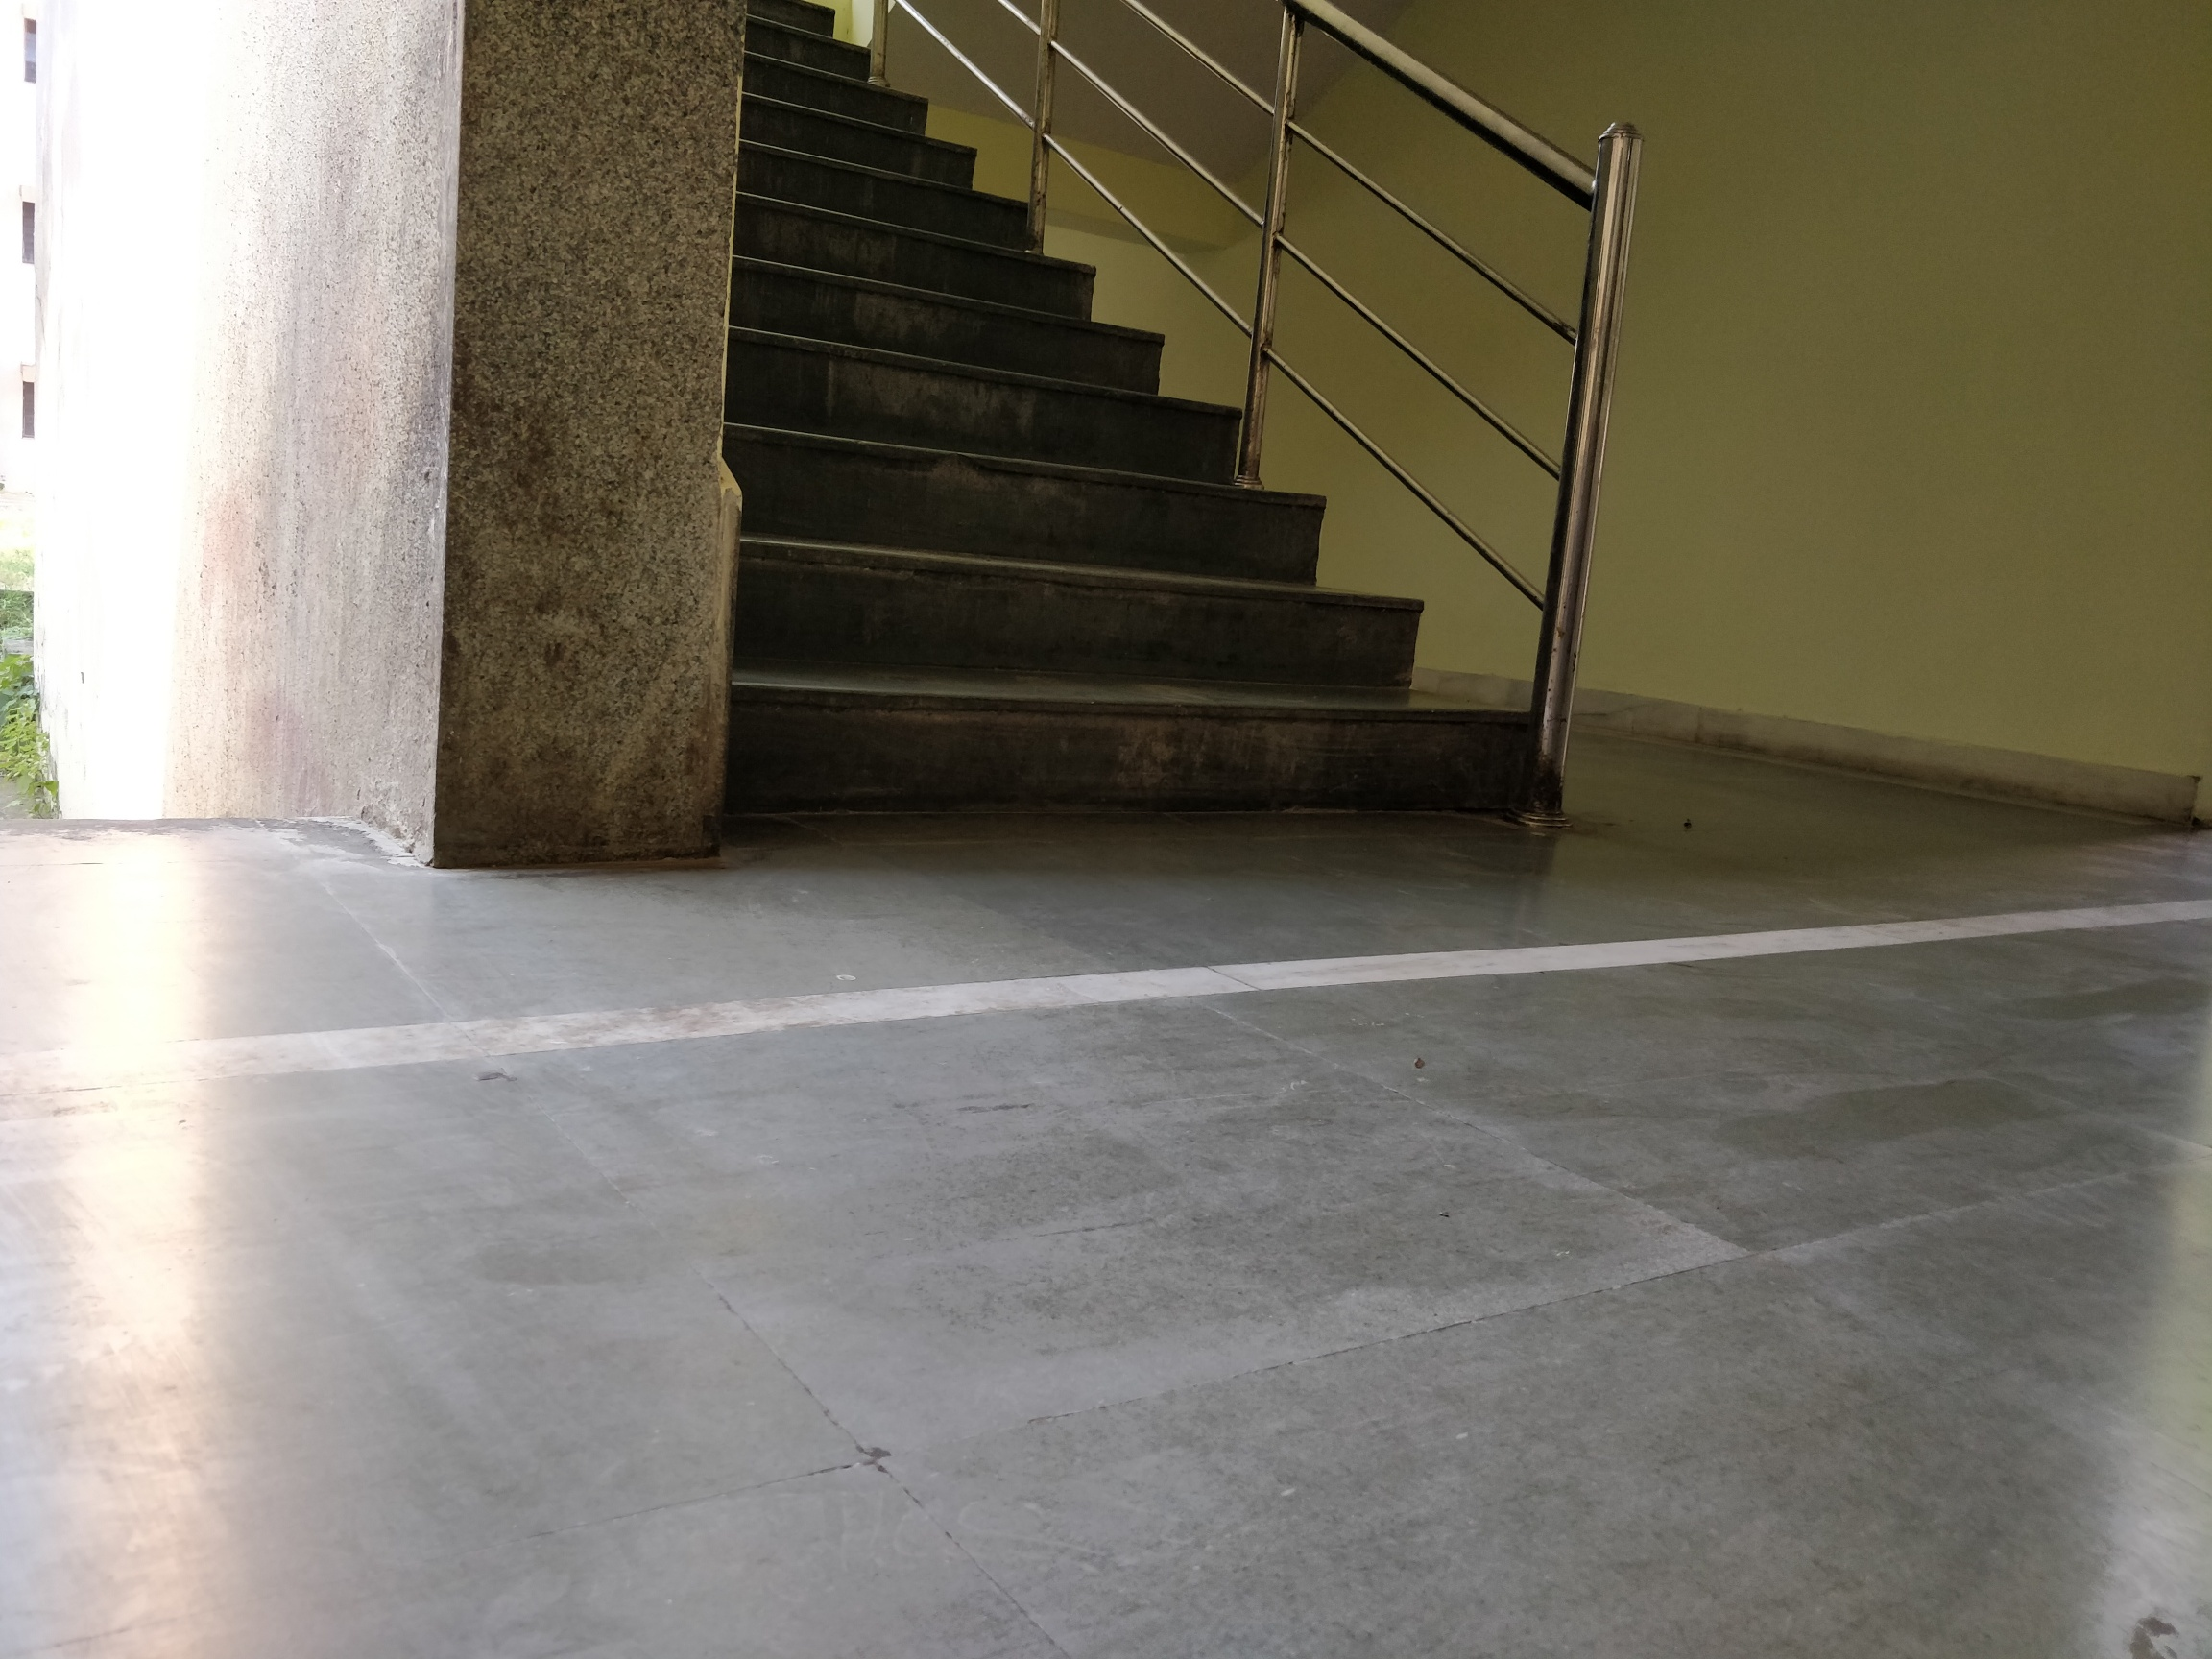stairs_up: (742, 61, 1479, 803)
